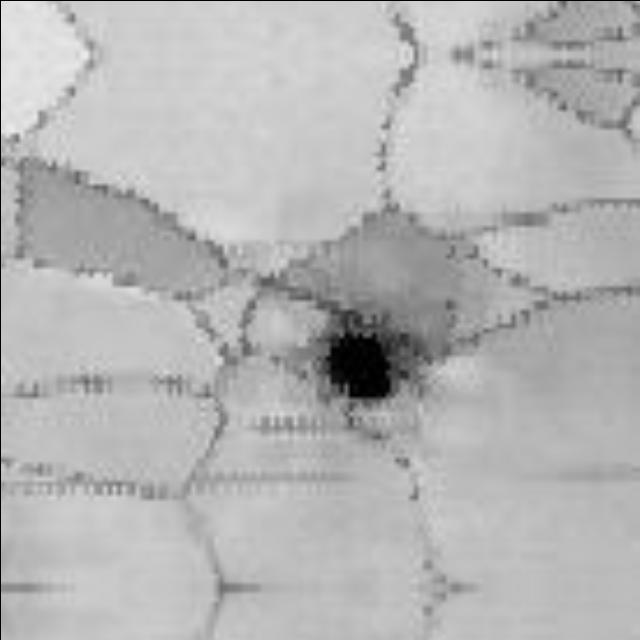good_void: (298, 304, 435, 416)
